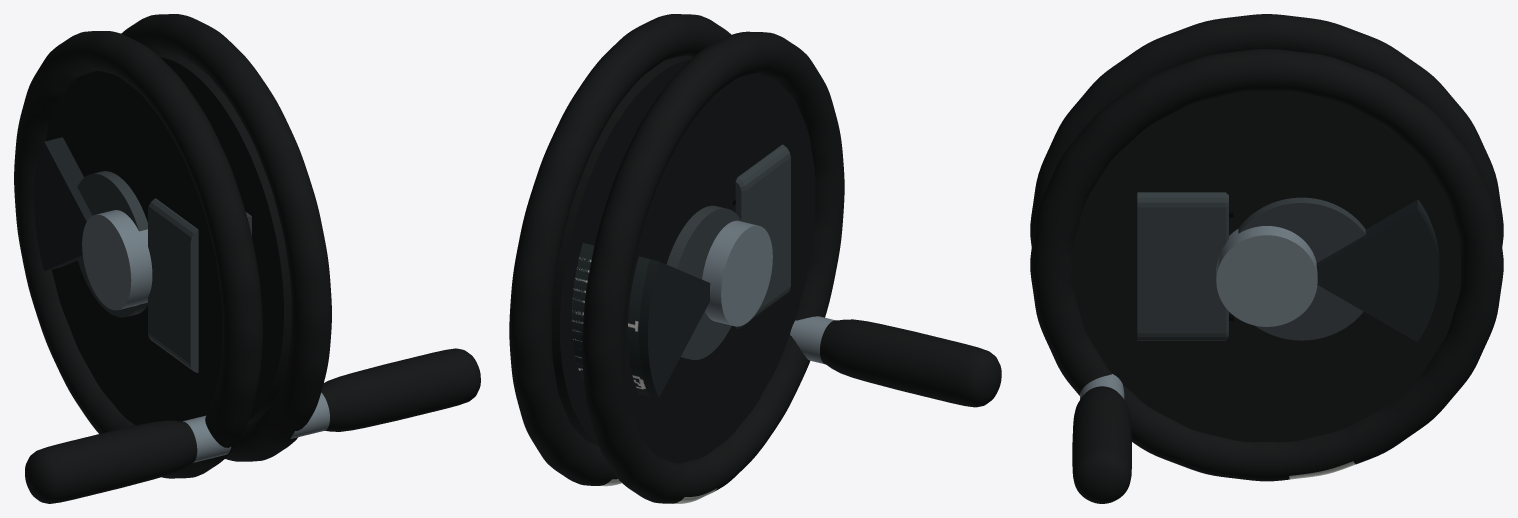
File: MFDStudio.obj
3 views of the same model, side by side, from view 1: azimuth 30°, elevation 25°; view 2: azimuth 150°, elevation 25°; view 3: azimuth 270°, elevation 25° (orthographic). The views are drawn at different scales.
Visible parts, largest first — view 1: MFDStudioWheelRotorMirror, MFDStudioWheelRotor, MFDStudioWheelCrankMirror, MFDStudioBody, MFDStudioWheelCrank, MFDStudioWheelIndicatorClosedHousing; view 2: MFDStudioWheelRotorMirror, MFDStudioWheelRotor, MFDStudioWheelCrankMirror, MFDStudioBody, MFDStudioWheelIndicatorClosedHousing, MFDStudioWheelIndicatorFace, MFDStudioWheelIndicatorFaceMirror; view 3: MFDStudioWheelRotor, MFDStudioWheelRotorMirror, MFDStudioBodyMirror, MFDStudioWheelIndicatorClosedHousingMirror, MFDStudioWheelCrank.
Boxes of the visible parts, left/top/right/bottom form: MFDStudioWheelRotorMirror: left=14, top=31, right=262, bottom=478; MFDStudioWheelRotor: left=82, top=14, right=331, bottom=461; MFDStudioWheelCrankMirror: left=25, top=415, right=231, bottom=503; MFDStudioBody: left=77, top=171, right=251, bottom=372; MFDStudioWheelCrank: left=290, top=348, right=480, bottom=438; MFDStudioWheelIndicatorClosedHousing: left=34, top=137, right=92, bottom=270; MFDStudioWheelRotorMirror: left=582, top=31, right=844, bottom=503; MFDStudioWheelRotor: left=509, top=14, right=772, bottom=486; MFDStudioWheelCrankMirror: left=790, top=316, right=1001, bottom=407; MFDStudioBody: left=666, top=144, right=790, bottom=359; MFDStudioWheelIndicatorClosedHousing: left=639, top=259, right=710, bottom=397; MFDStudioWheelIndicatorFace: left=571, top=243, right=649, bottom=396; MFDStudioWheelIndicatorFaceMirror: left=571, top=243, right=593, bottom=377; MFDStudioWheelRotor: left=1030, top=48, right=1503, bottom=481; MFDStudioWheelRotorMirror: left=1030, top=14, right=1503, bottom=326; MFDStudioBodyMirror: left=1137, top=192, right=1365, bottom=340; MFDStudioWheelIndicatorClosedHousingMirror: left=1316, top=199, right=1438, bottom=342; MFDStudioWheelCrank: left=1072, top=374, right=1131, bottom=503.
Size of the model in its own units: 0.168 by 0.1497 by 0.1497.
8 materials, 1 textured.
